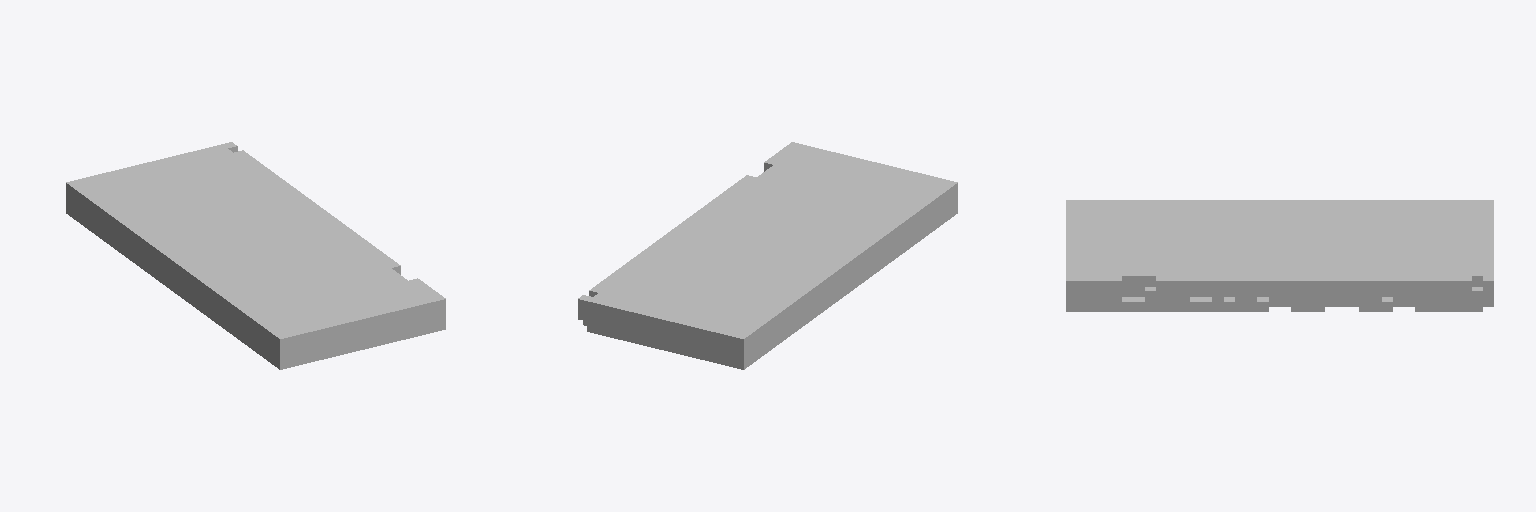
Rendered from floorrun.obj.
3 views of the same model, side by side, from view 1: azimuth 30°, elevation 25°; view 2: azimuth 150°, elevation 25°; view 3: azimuth 270°, elevation 25° (orthographic).
Parts seen in each view (by area): view 1: object 1; view 2: object 1; view 3: object 1.
Part boxes in pixels (x1,y1,x2,y2): object 1: (66, 142, 445, 369); object 1: (578, 142, 957, 369); object 1: (1066, 200, 1493, 311).
Size of the model in its own units: 1.7 by 0.3 by 3.8.